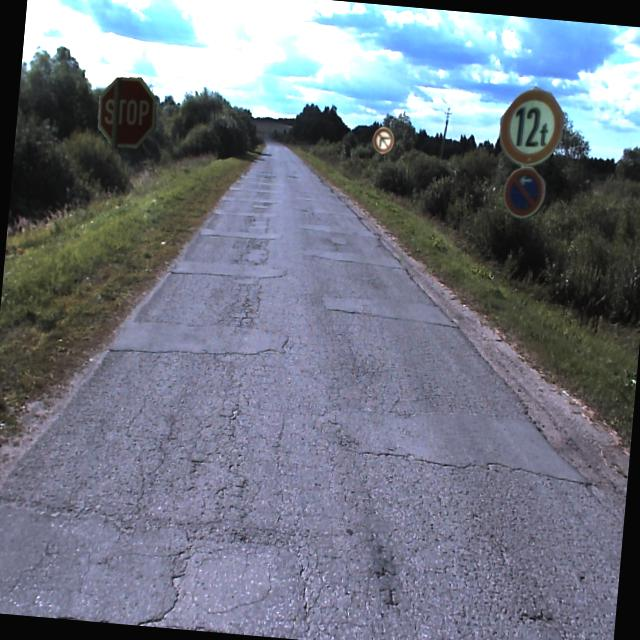road: (0, 137, 622, 640)
